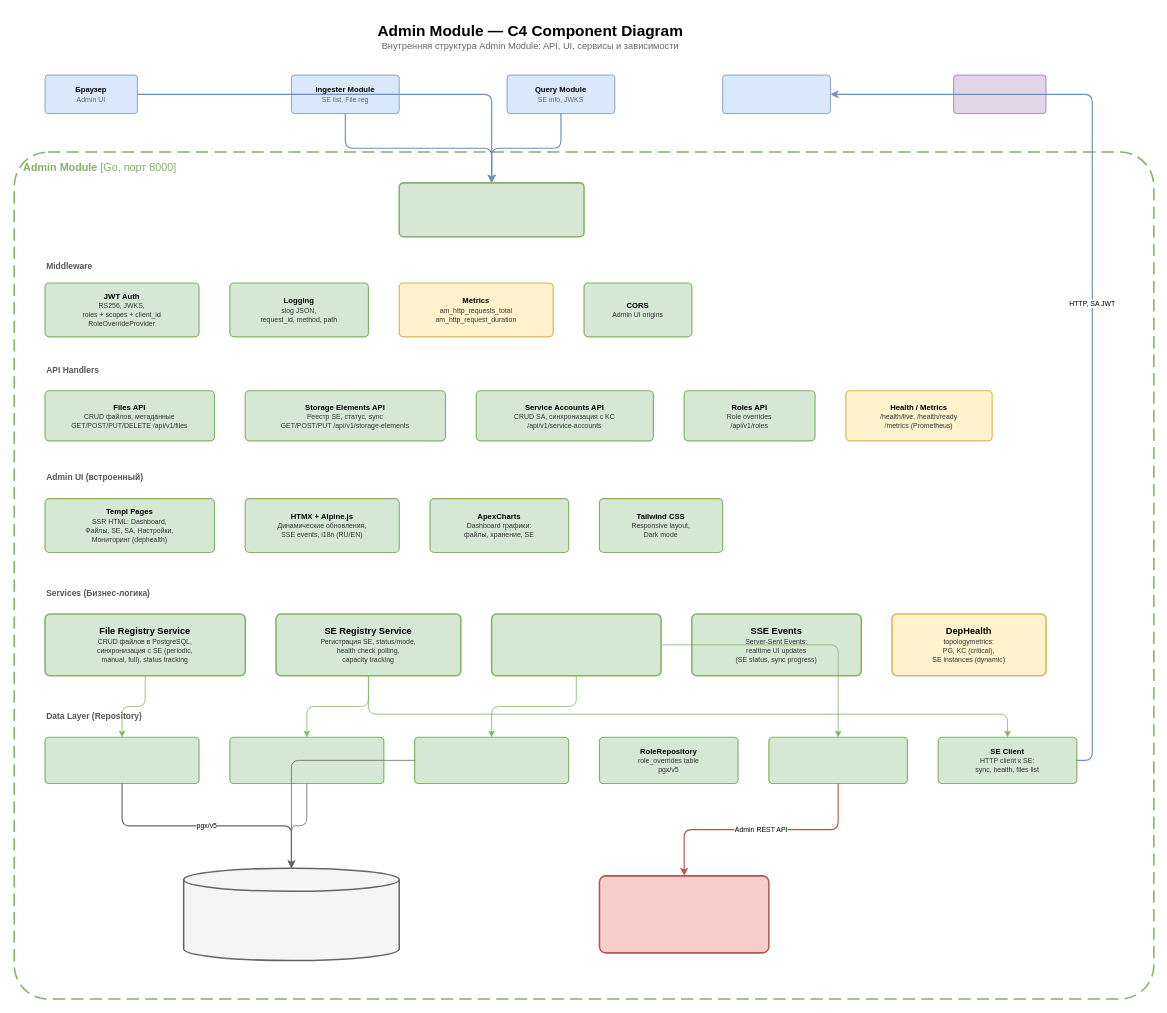
The diagram is 1167 pixels wide and 1013 high, and some of its shapes have lost their labels. The shapes that lost their labels are listed below. From the top down, each one's box as (x1, y1, x2, y2) in pixels, then its label:
(722, 74, 830, 114): Storage Elements Sync, Health
(953, 74, 1046, 114): API Gateway Envoy
(398, 182, 584, 237): HTTP Server net/http + chi router Graceful shutdown, порт 8000
(490, 613, 661, 676): SA Service Service Account CRUD, sync с Keycloak clients, scope management
(44, 736, 199, 784): FileRepository file_registry table pgx/v5, CRUD + batch
(229, 736, 384, 784): SERepository storage_elements table pgx/v5, CRUD + status
(414, 736, 569, 784): SARepository service_accounts table pgx/v5, sync state
(768, 736, 908, 784): Keycloak Client Admin REST API: SA sync, user management
(182, 867, 400, 961): PostgreSQL 17 file_registry, storage_elements, service_accounts, role_overrides
(598, 875, 769, 953): Keycloak JWKS, Admin REST API, OAuth 2.0 / OIDC
